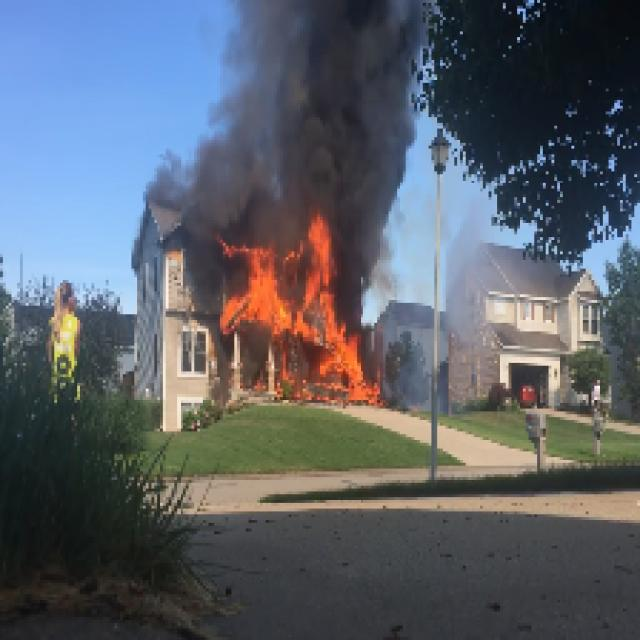fire: (232, 249, 331, 334), (321, 334, 357, 385)
smoke: (245, 1, 388, 245)
